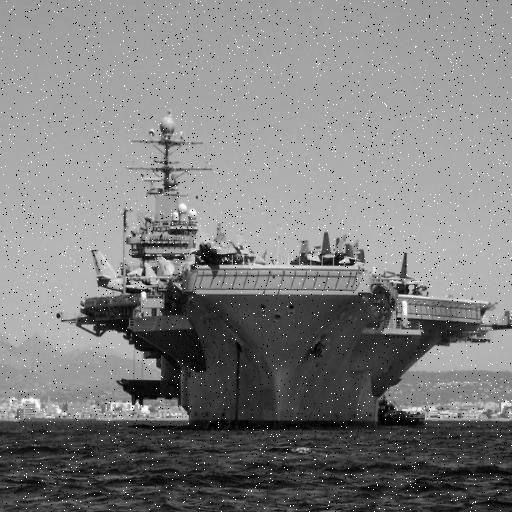Portanaves: (55, 106, 512, 432)
